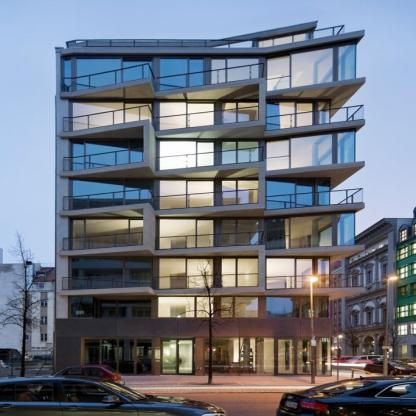Balcony: (66, 25, 344, 48), (156, 63, 264, 91), (156, 106, 259, 132), (63, 63, 155, 92), (156, 147, 263, 171), (266, 105, 363, 131), (63, 105, 154, 132), (156, 188, 257, 210), (266, 188, 363, 210), (63, 188, 154, 211), (63, 146, 145, 171), (156, 232, 264, 250), (62, 271, 154, 291), (156, 274, 259, 290), (266, 274, 364, 290), (63, 232, 143, 251)
Building Outline: (54, 21, 366, 376)
Door: (274, 337, 316, 376), (160, 337, 195, 375)
Facade: (54, 20, 366, 378)
Floor Slab: (60, 132, 348, 139), (58, 289, 347, 295), (58, 250, 347, 256), (60, 92, 348, 98), (58, 171, 347, 176), (58, 211, 347, 216)
Glass Wall: (267, 42, 356, 91), (266, 130, 356, 171), (265, 212, 356, 250), (204, 337, 274, 375), (73, 141, 151, 175), (73, 219, 151, 253), (72, 259, 150, 293), (73, 103, 151, 137), (73, 179, 151, 213), (76, 58, 153, 92), (83, 338, 151, 375), (266, 103, 331, 137), (266, 179, 330, 213), (266, 259, 330, 293), (158, 101, 214, 135), (159, 141, 214, 175), (159, 219, 213, 253), (159, 258, 213, 292), (159, 181, 213, 214), (212, 59, 258, 93), (159, 59, 203, 93), (222, 103, 260, 137), (222, 142, 260, 176), (222, 219, 260, 253), (221, 259, 259, 293), (220, 297, 257, 331), (223, 180, 260, 213), (258, 34, 308, 55), (212, 41, 252, 56), (317, 337, 331, 376)
Window: (266, 297, 328, 318), (159, 297, 213, 317), (98, 299, 151, 318), (220, 297, 257, 317), (71, 298, 94, 317)
